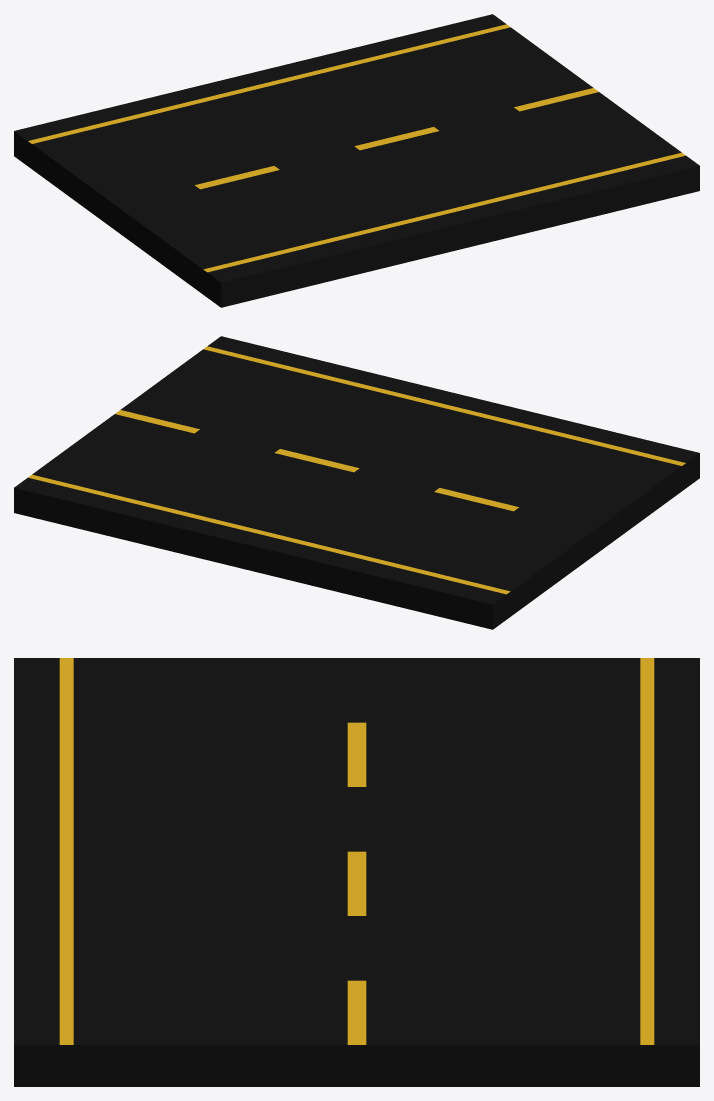
Rendered from Road.fbx.
The picture shows the model from 3 angles, top to bottom: view 1: azimuth 30°, elevation 25°; view 2: azimuth 150°, elevation 25°; view 3: azimuth 270°, elevation 25°; orthographic projection. The views are drawn at different scales.
Visible parts, largest first — view 1: Cube; view 2: Cube; view 3: Cube.
Boxes of the visible parts, x1,y1,x2,y2 form: Cube: [14, 14, 699, 307]; Cube: [14, 336, 699, 629]; Cube: [14, 658, 699, 1086].
Bounding box in the file's own units: 1000 × 50.4 × 749.
